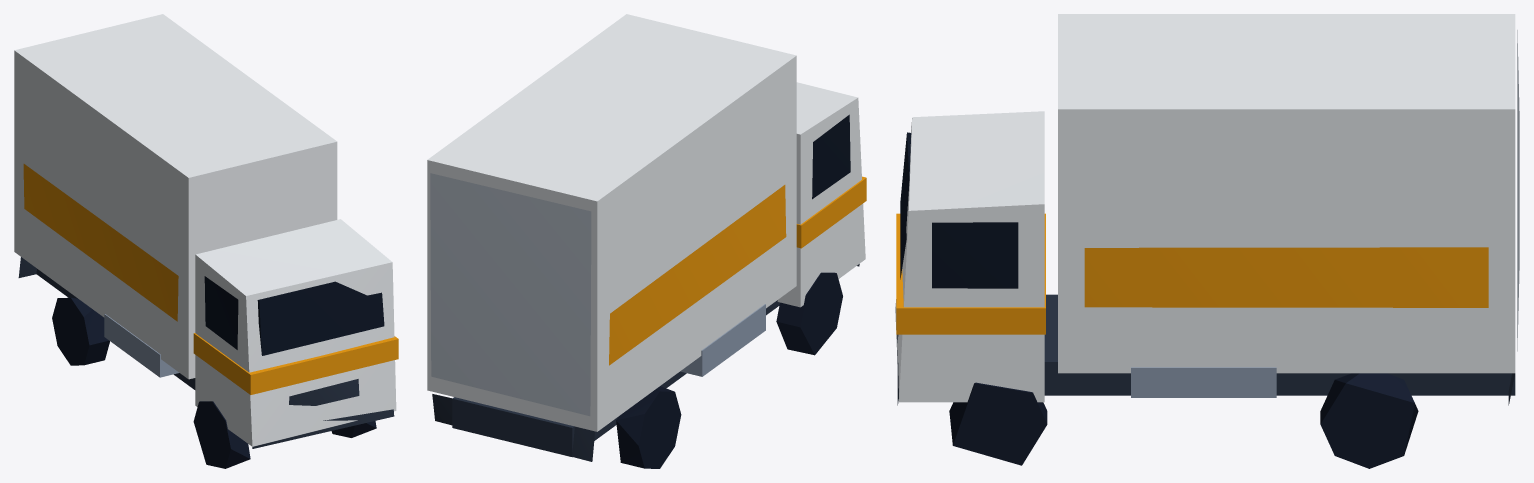
3 renders of one model, left to right at view 1: azimuth 30°, elevation 25°; view 2: azimuth 150°, elevation 25°; view 3: azimuth 270°, elevation 25°, orthographic. The views are drawn at different scales.
Visible parts, largest first — view 1: box_2t; view 2: box_2t; view 3: box_2t.
Part boxes in pixels (box(x1,y1,x2,y2)): box_2t: box(14, 14, 398, 468); box_2t: box(427, 14, 866, 468); box_2t: box(895, 14, 1519, 468).
Bounding box in the file's own units: 1.72 × 3 × 4.71.
1 material, 1 textured.
